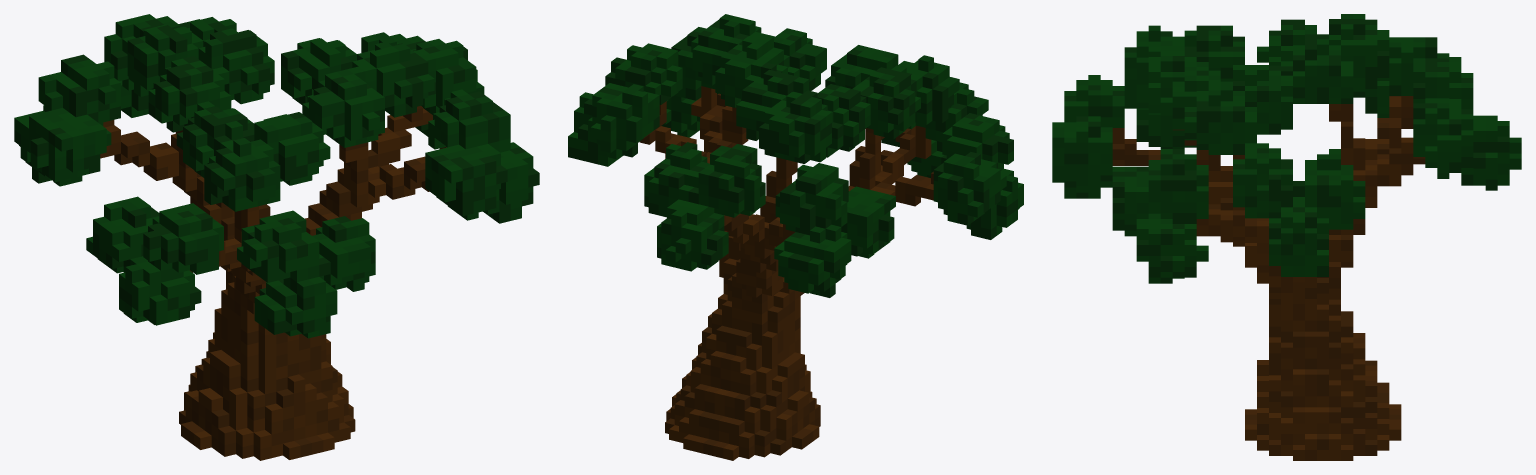
File: Shrub2-0-0.obj
3 views of the same model, side by side, from view 1: azimuth 30°, elevation 25°; view 2: azimuth 150°, elevation 25°; view 3: azimuth 270°, elevation 25° (orthographic). The views are drawn at different scales.
Visible parts, largest first — view 1: 0; view 2: 0; view 3: 0.
Part boxes in pixels (<box>): 0: <box>14,14,539,460</box>; 0: <box>568,14,1023,460</box>; 0: <box>1052,14,1521,460</box>.
Bounding box in the file's own units: 3.7 × 3.4 × 3.9.
1 material, 1 textured.
